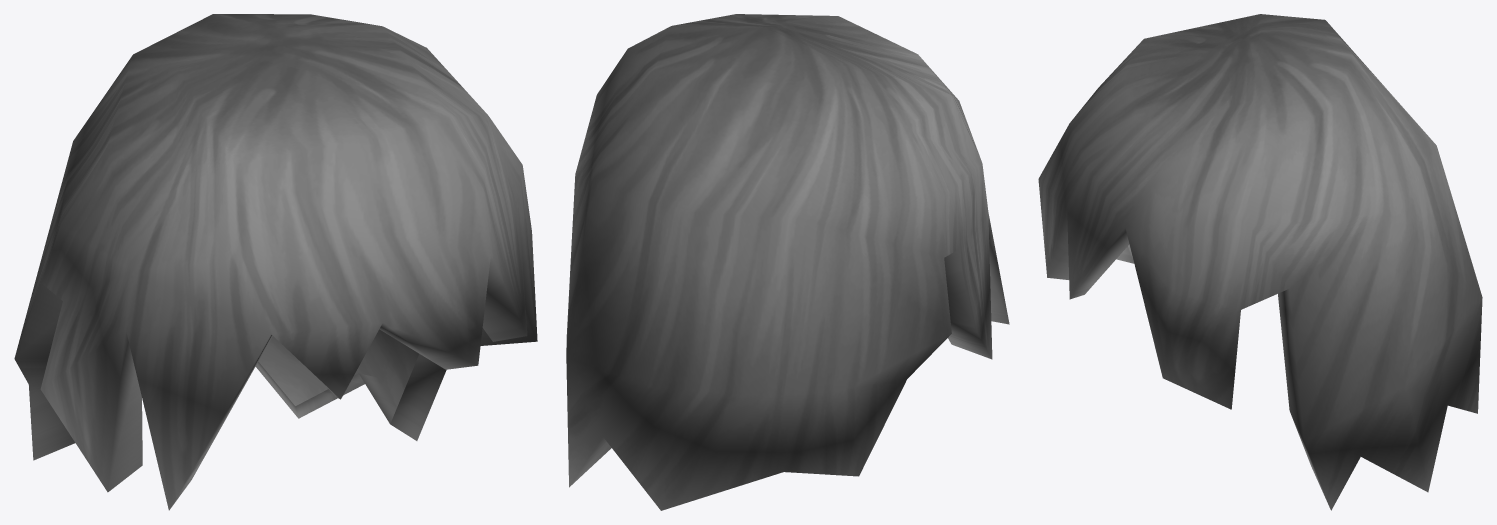
The model's file is NPC_Hair_005.fbx.
3 renders of one model, left to right at view 1: azimuth 30°, elevation 25°; view 2: azimuth 150°, elevation 25°; view 3: azimuth 270°, elevation 25°, orthographic. The views are drawn at different scales.
Visible parts, largest first — view 1: NPC_Hair_005; view 2: NPC_Hair_005; view 3: NPC_Hair_005.
Part boxes in pixels (x1,y1,x2,y2): NPC_Hair_005: [14, 14, 537, 510]; NPC_Hair_005: [566, 14, 1009, 510]; NPC_Hair_005: [1038, 14, 1482, 510].
Bounding box in the file's own units: 33.23 × 34.69 × 34.41.
